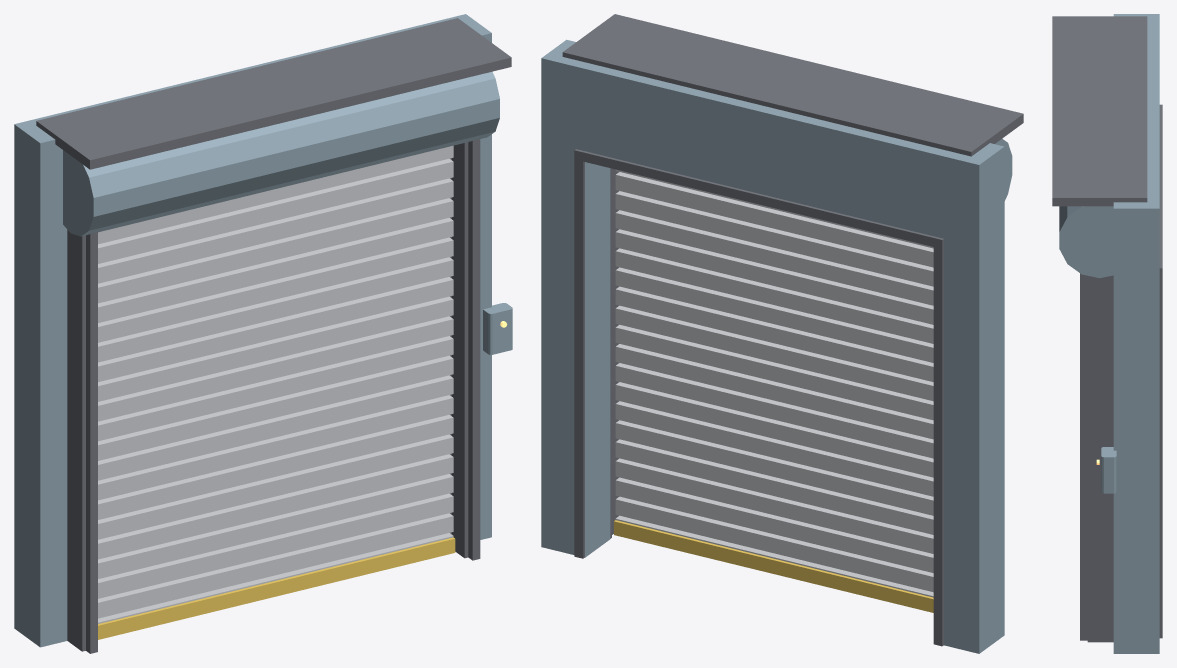
File: animated-mechanisms-kit-roller-shutter-b7ab2d50__24588.glb
3 renders of one model, left to right at view 1: azimuth 30°, elevation 25°; view 2: azimuth 150°, elevation 25°; view 3: azimuth 270°, elevation 25°, orthographic. The views are drawn at different scales.
Visible parts, largest first — view 1: curtain/steel, roller-shutter, curtain/accent; view 2: roller-shutter, curtain/steel, curtain/accent; view 3: roller-shutter.
Boxes of the visible parts, bbox=[...] form: curtain/steel: bbox=[98, 145, 453, 623]; roller-shutter: bbox=[14, 14, 512, 653]; curtain/accent: bbox=[98, 537, 455, 639]; roller-shutter: bbox=[541, 14, 1023, 653]; curtain/steel: bbox=[615, 169, 933, 597]; curtain/accent: bbox=[614, 520, 933, 612]; roller-shutter: bbox=[1052, 14, 1162, 653].
Size of the model in its own units: 3.1 by 3.23 by 0.72.
